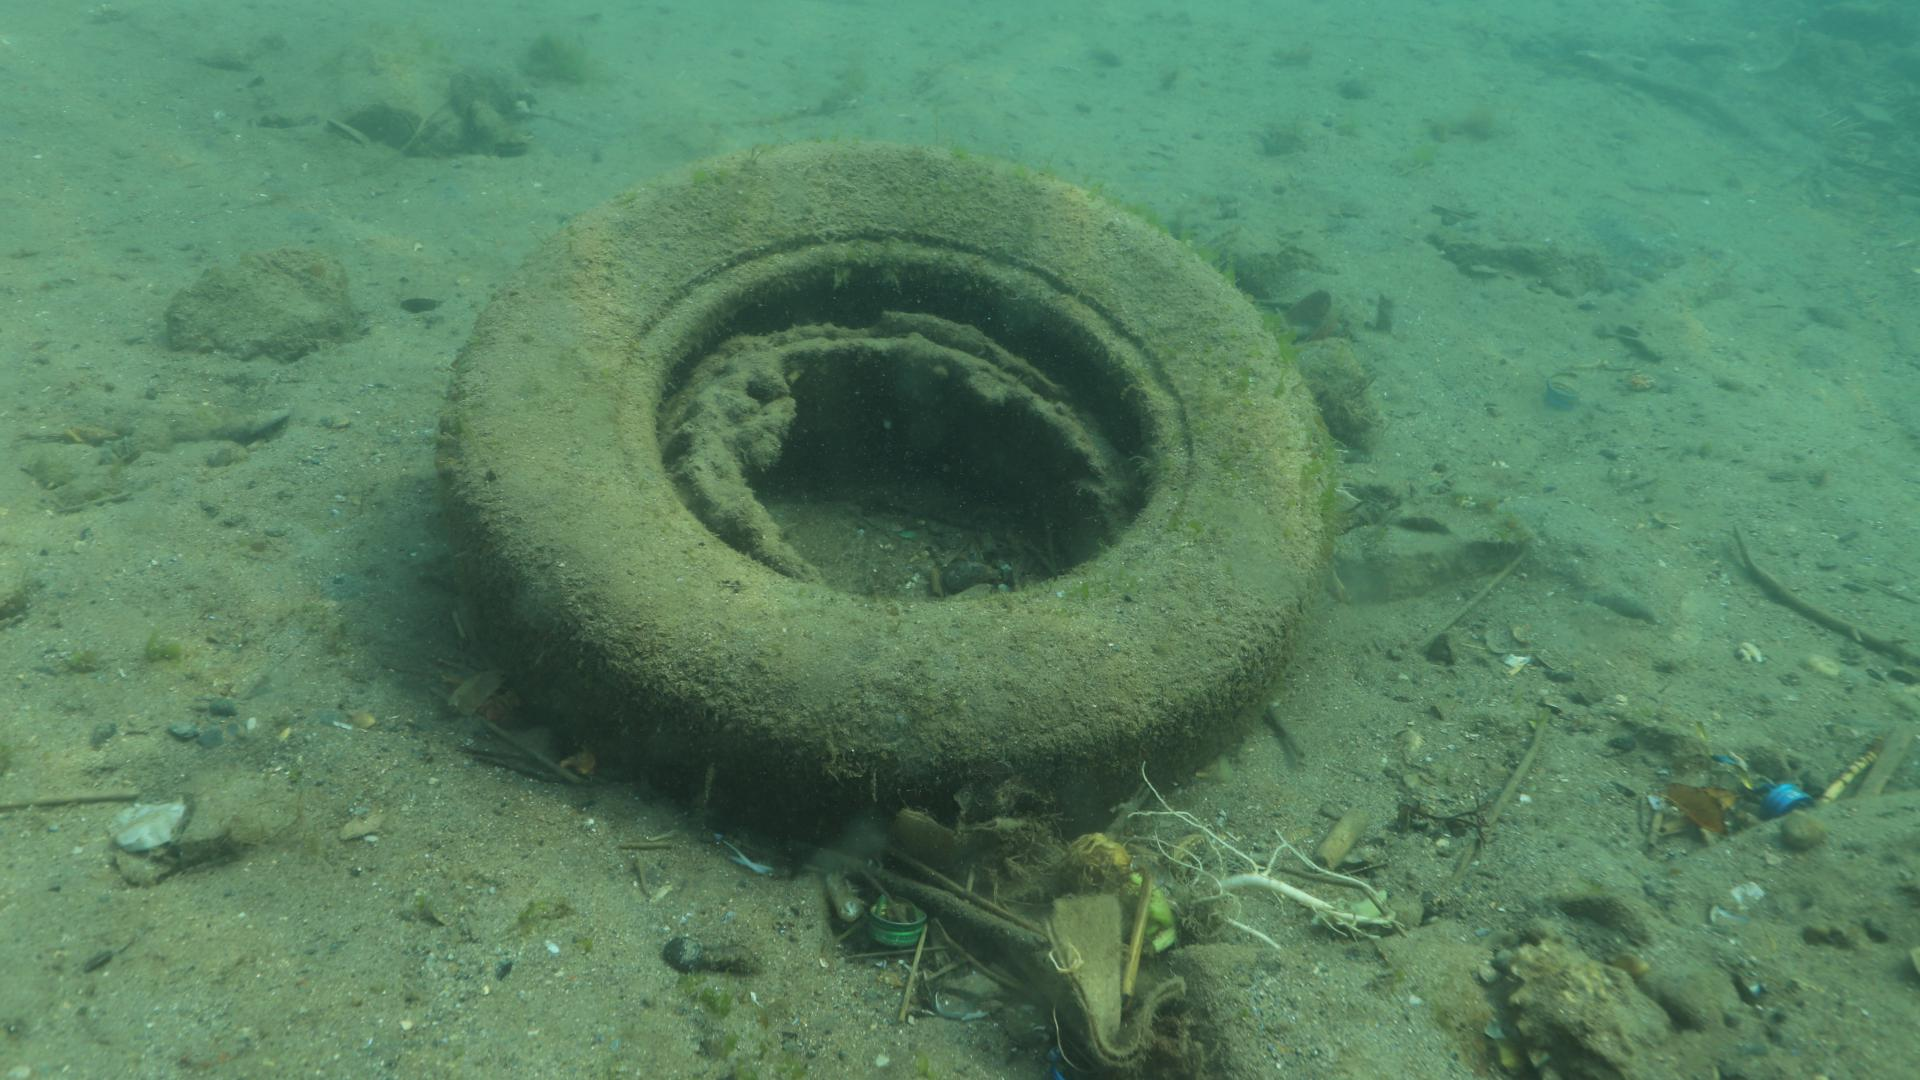tire: (447, 138, 1332, 855)
